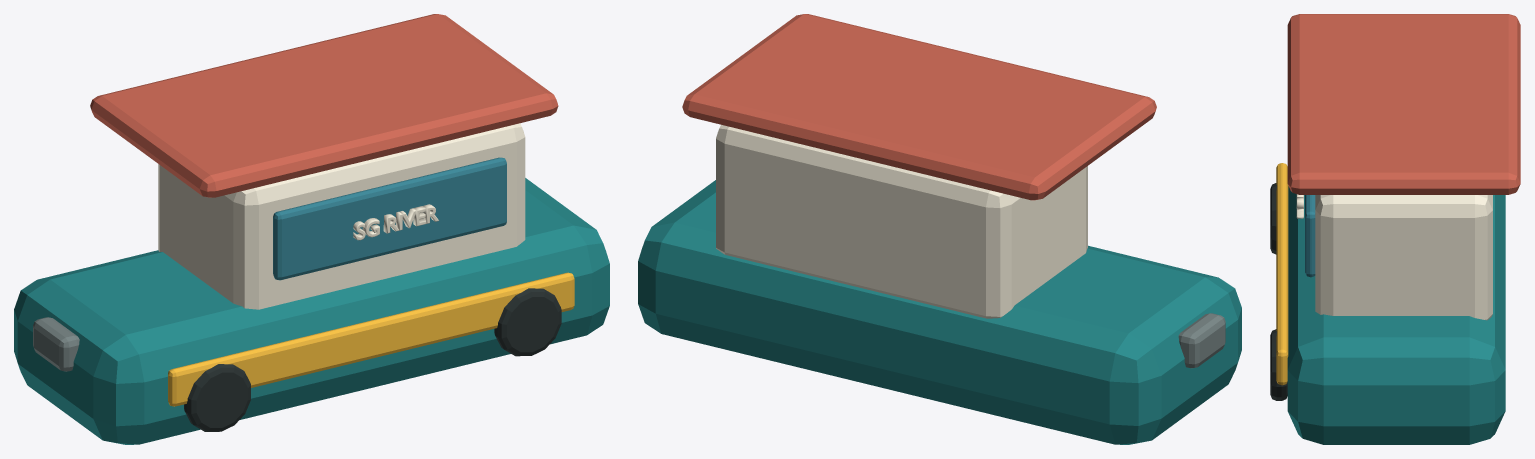
File: bumboat-v2.glb
3 views of the same model, side by side, from view 1: azimuth 30°, elevation 25°; view 2: azimuth 150°, elevation 25°; view 3: azimuth 270°, elevation 25° (orthographic). The views are drawn at different scales.
Parts seen in each view (by area): view 1: SINGAPORE RIVER BUMBOAT · Chalk; view 2: SINGAPORE RIVER BUMBOAT · Chalk; view 3: SINGAPORE RIVER BUMBOAT · Chalk.
Part boxes in pixels (box(x1,y1,x2,y2)): SINGAPORE RIVER BUMBOAT · Chalk: box(14, 14, 609, 444); SINGAPORE RIVER BUMBOAT · Chalk: box(638, 14, 1241, 444); SINGAPORE RIVER BUMBOAT · Chalk: box(1270, 14, 1520, 444).
Bounding box in the file's own units: 3.88 × 1.85 × 1.66.
1 material, 1 textured.
